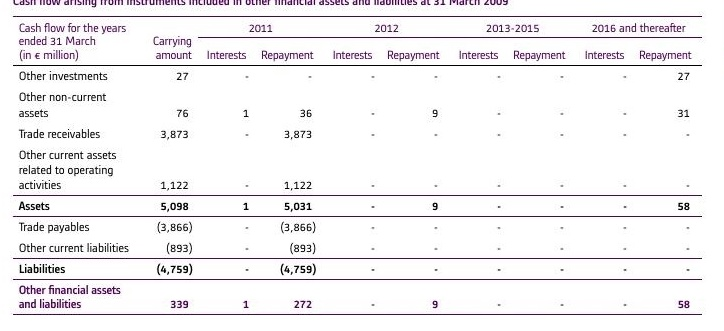table: (0, 0, 724, 331)
